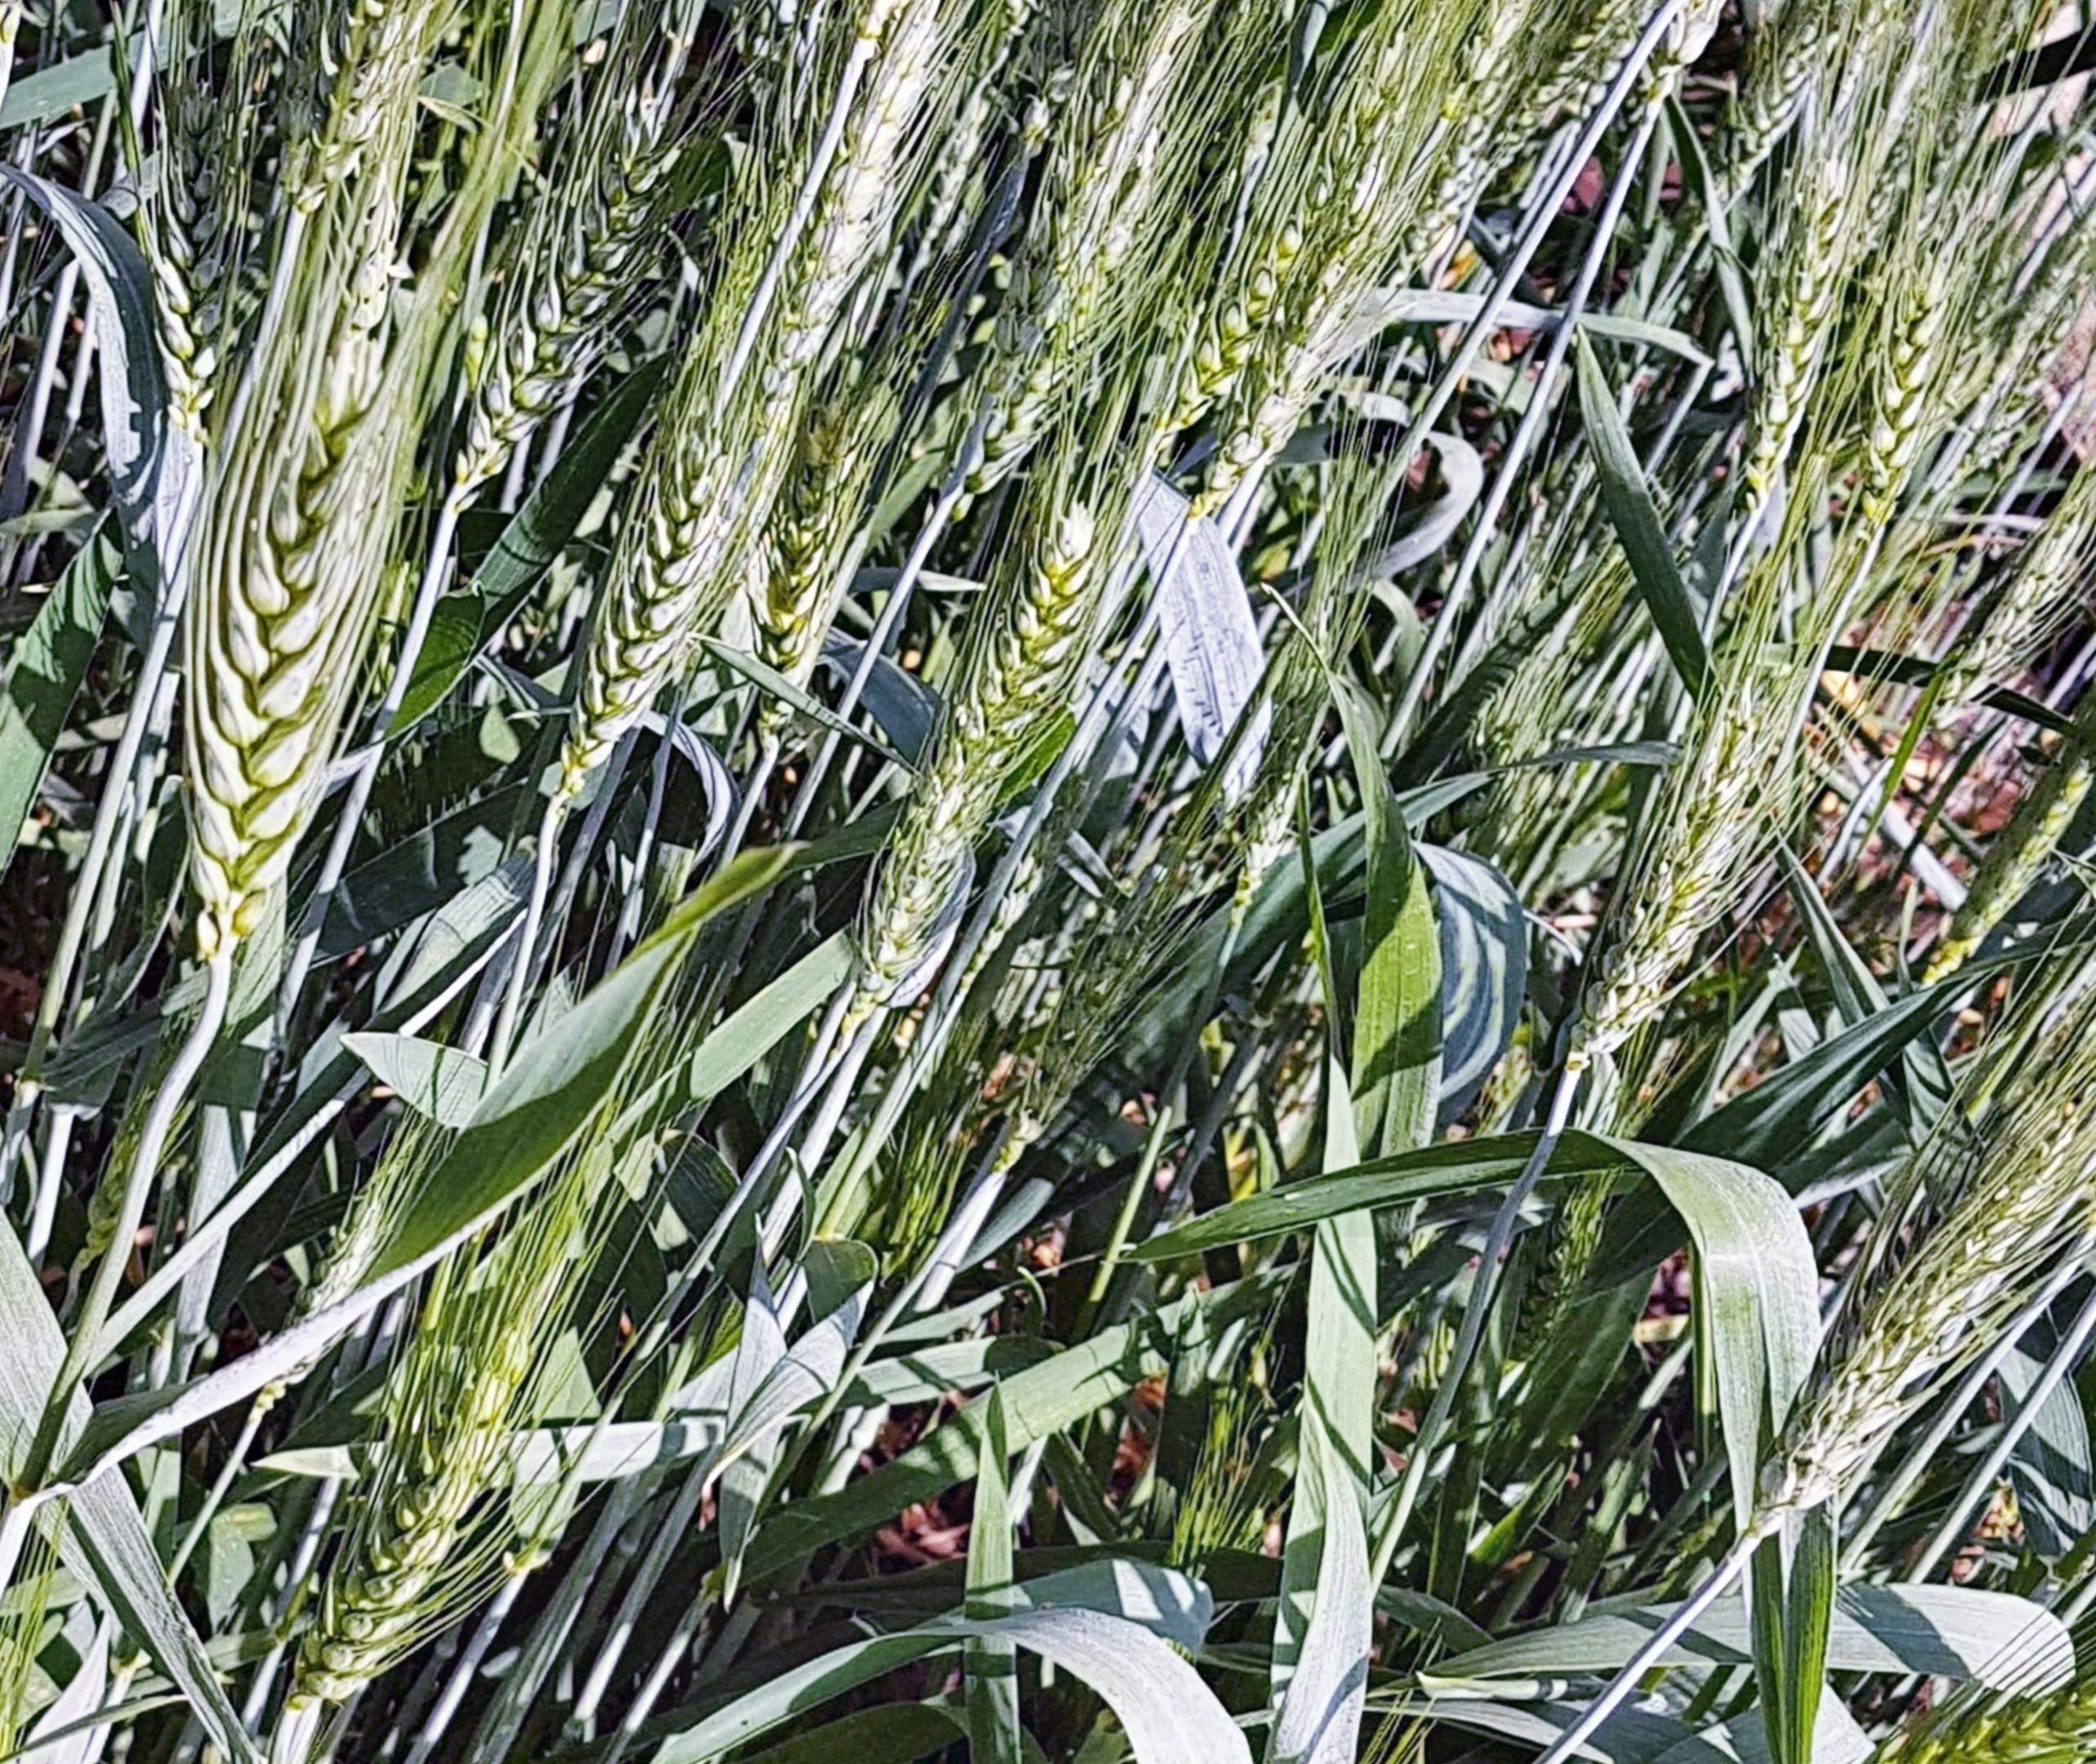Healthy Wheat: (163, 327, 416, 954)
